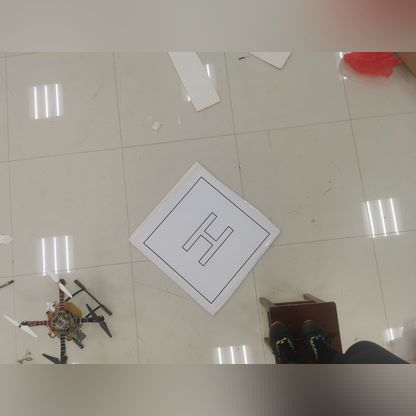H: (183, 204, 251, 279)
